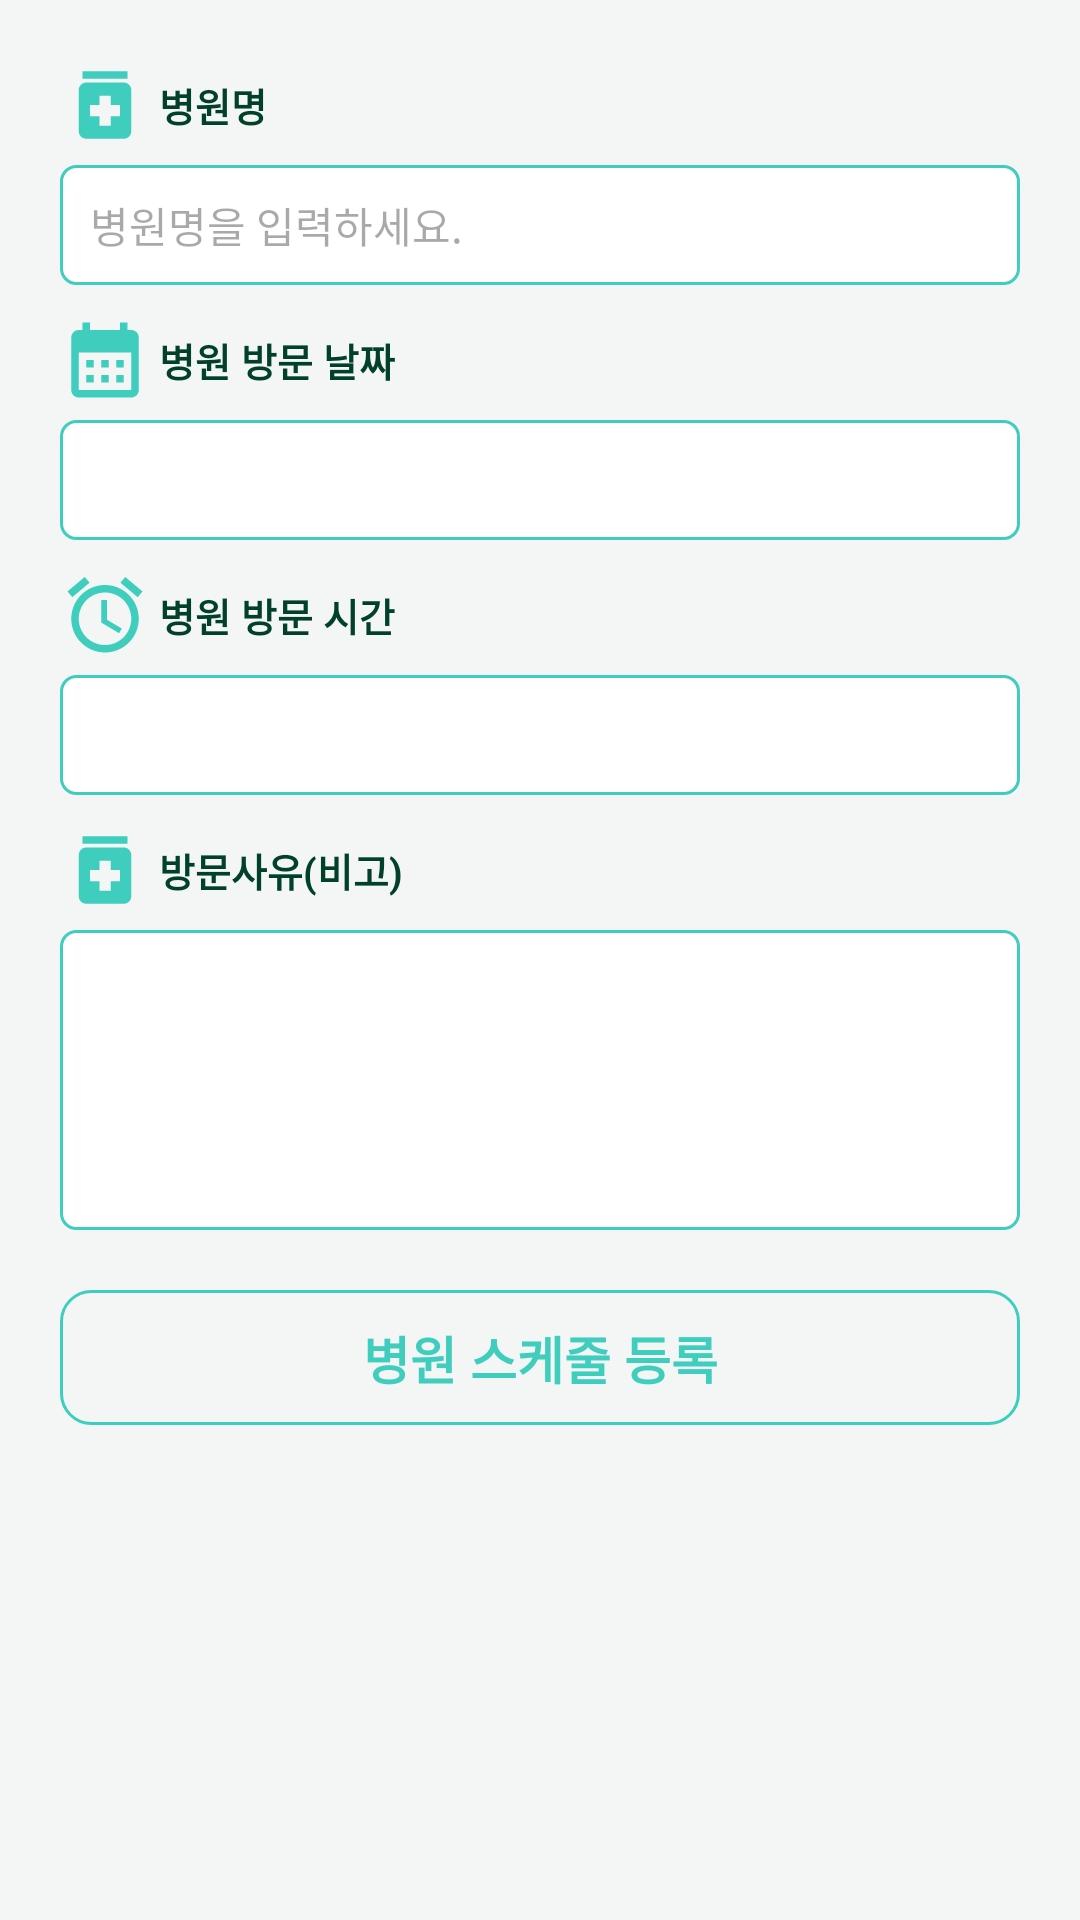

Locate icon controls on the screen. Image size 1080*1920, boxes as (x1, y1, x2, y2).
calendar: (71, 322, 139, 398)
medicine: (78, 71, 132, 139), (78, 836, 132, 904)
time: (67, 577, 143, 653)
